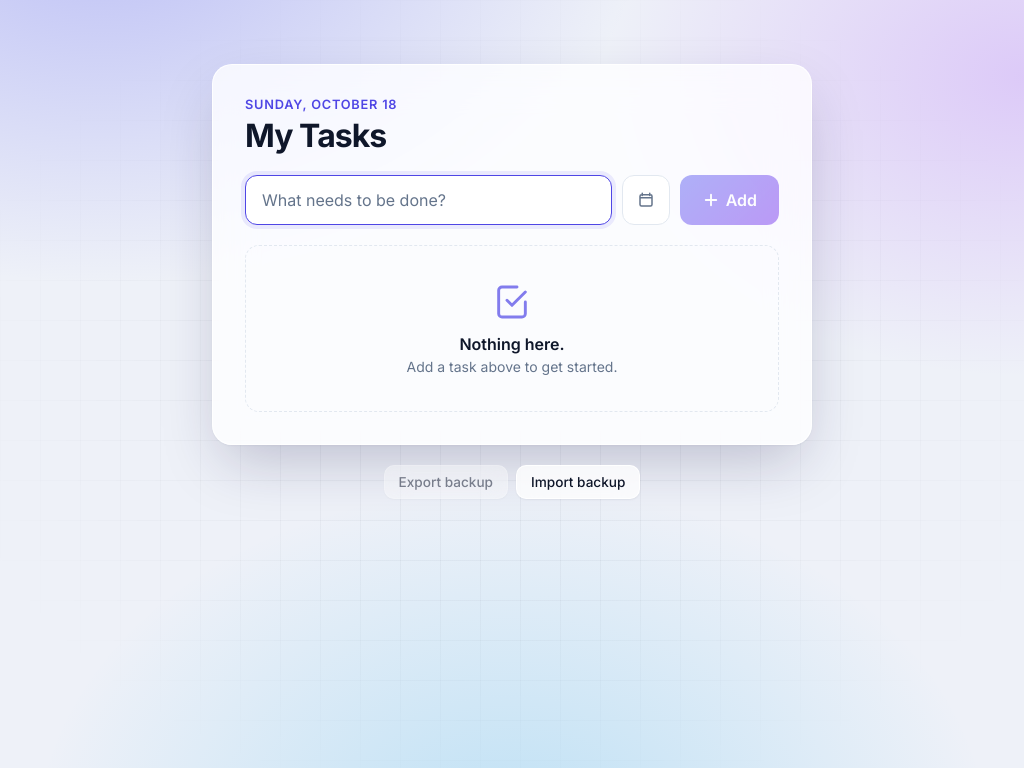
Test: App › toggles and deletes a task
Step 1. Type "Walk dog" into the field named "New task" → (428, 200), box 245,175 -> 612,225
Then press Enter
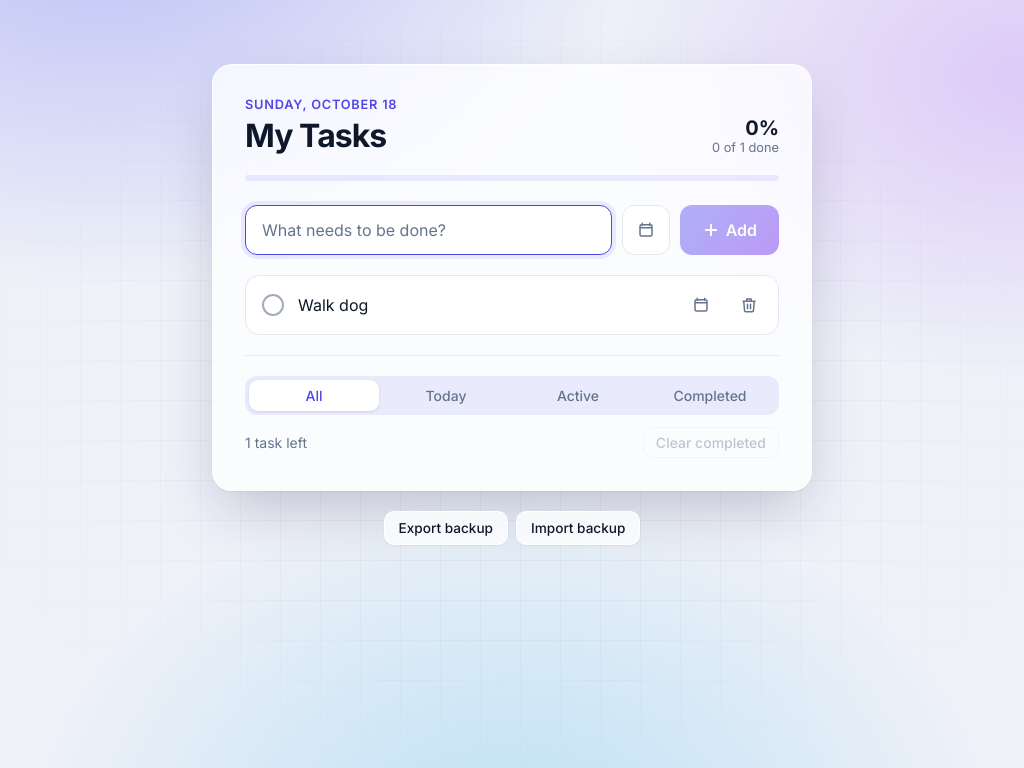
Step 2. Click the checkbox → (273, 305), box 262,294 -> 284,316
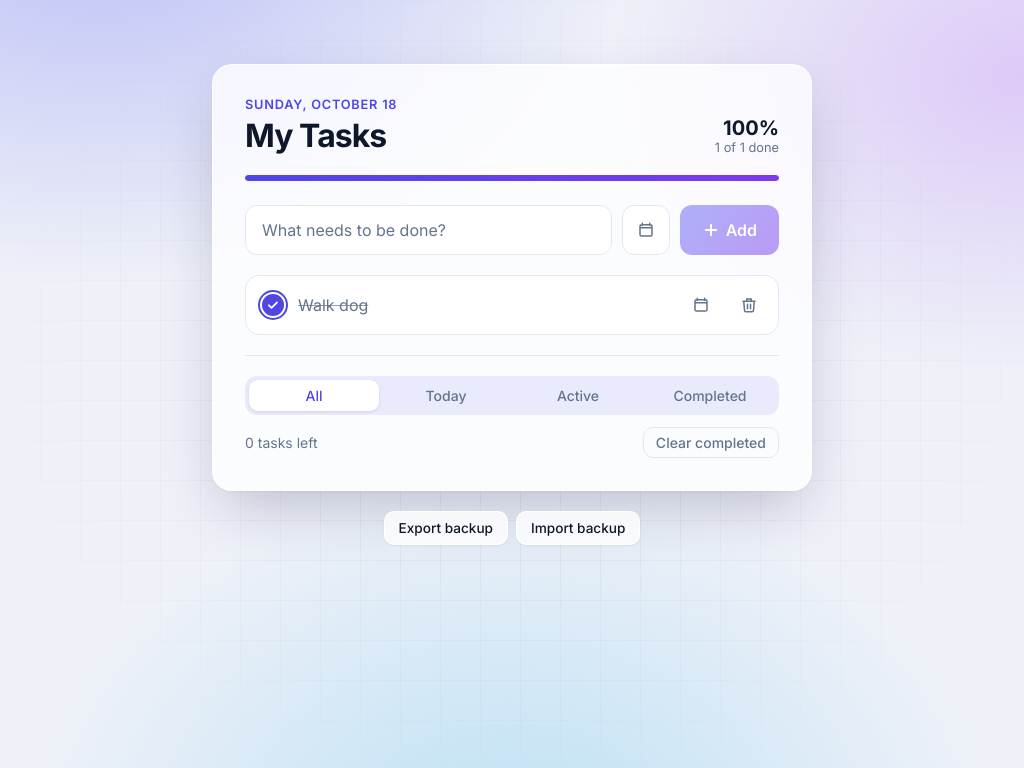
expect the text "0 tasks left" is shown: met, box 245,434 -> 318,451
Step 3. Click the button named "Delete \"Walk dog\"" → (749, 305), box 732,288 -> 766,322
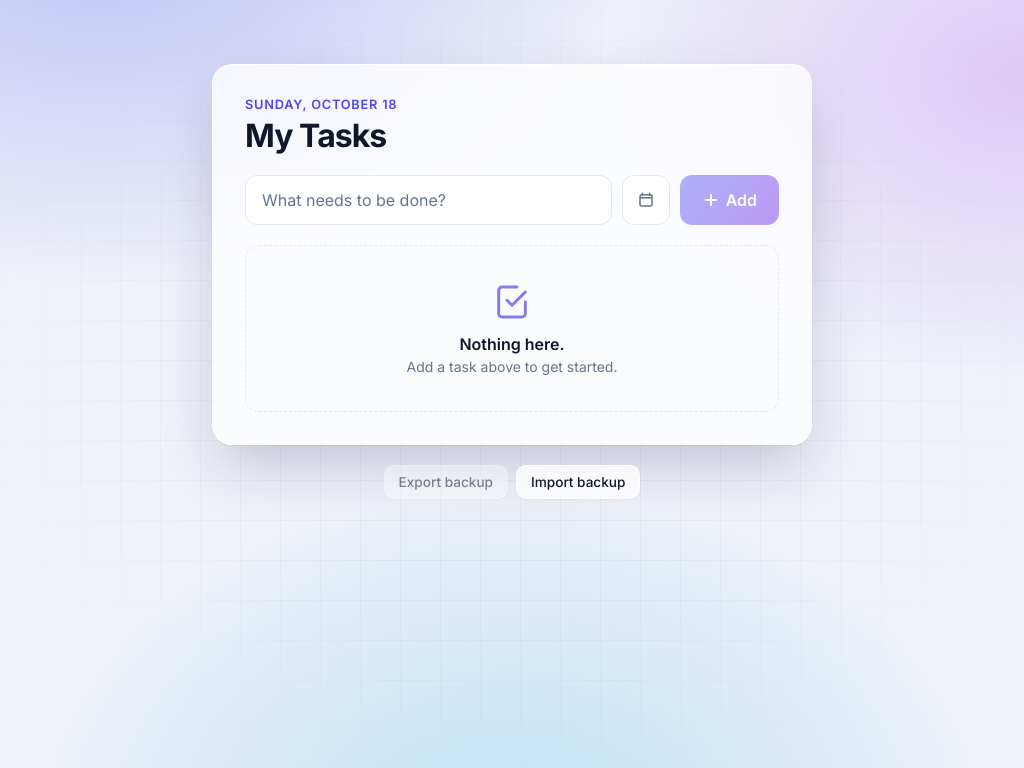
expect the list item "Walk dog" is gone: met
